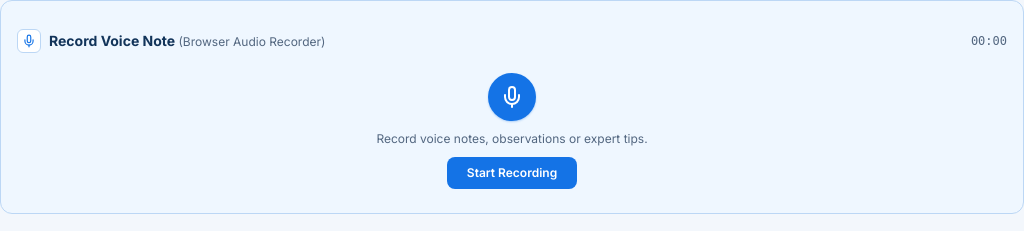
Test case: T2.4: AudioRecorder & useMediaRecorder › handles microphone permission denied gracefully with actionable message
Step 1. Click the button "Start Recording" → x=512, y=173, box [447,157,577,189]
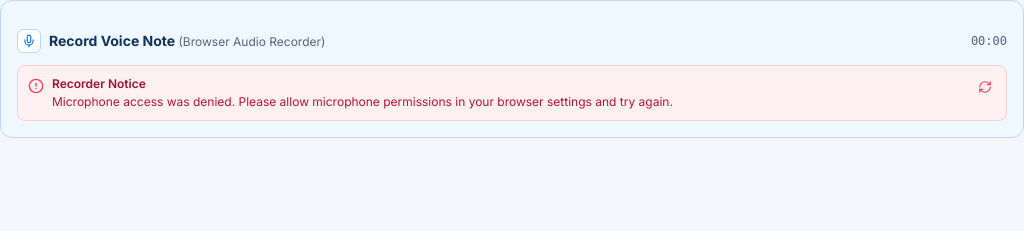
Expected: the text "Microphone access was denied" is shown, [52,94,673,109]
